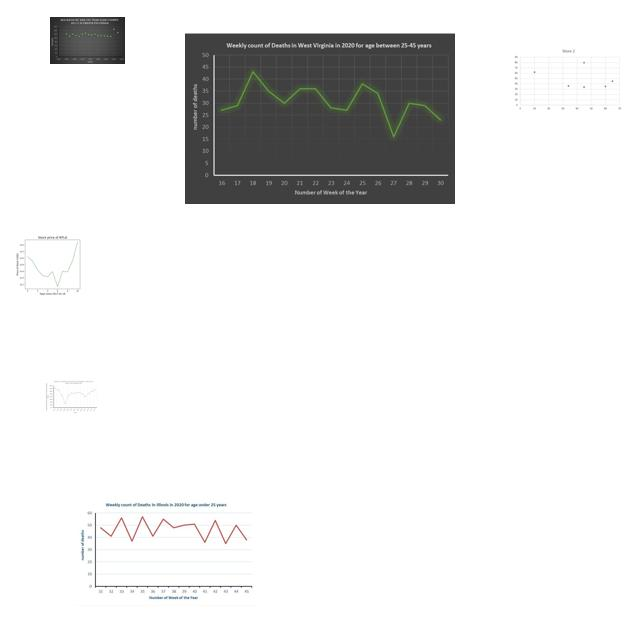Graph: (185, 33, 455, 204), (76, 499, 256, 606), (514, 47, 624, 111), (9, 232, 94, 296), (50, 17, 125, 64), (45, 380, 98, 414)
